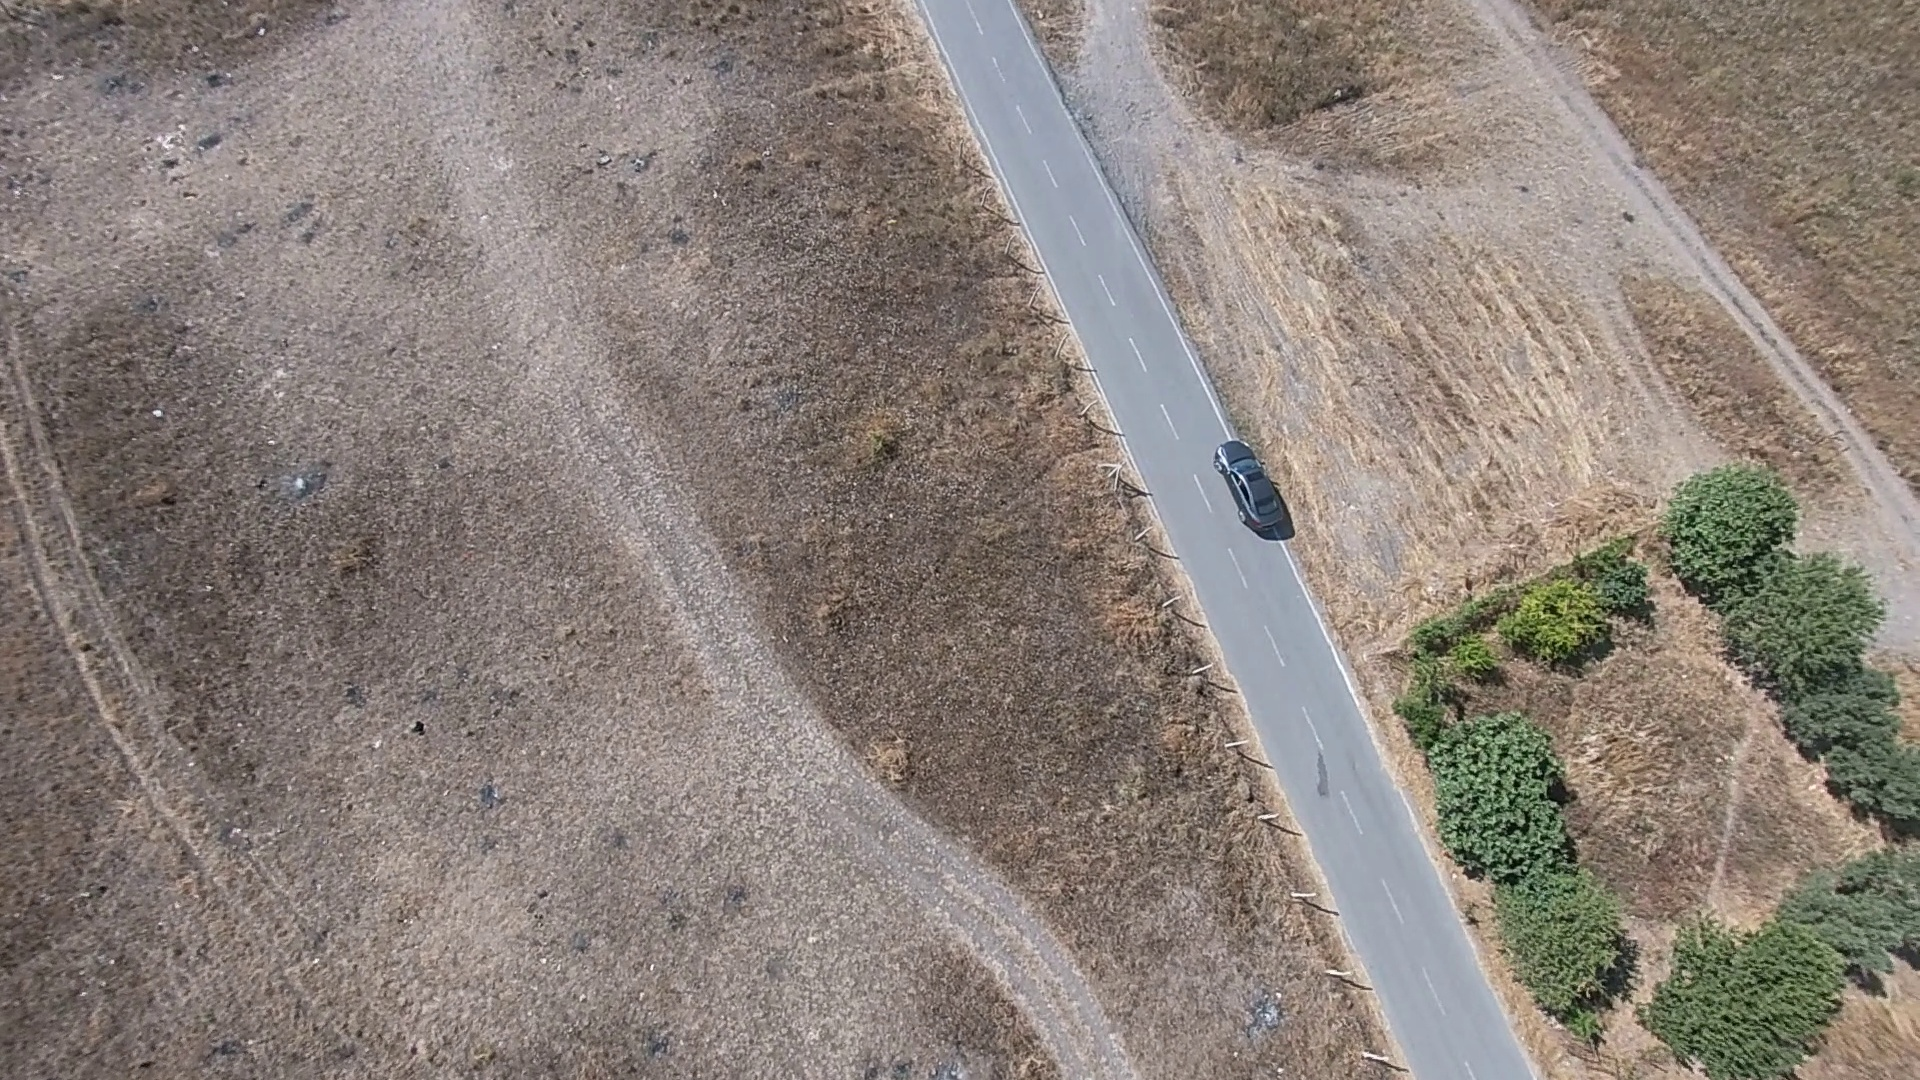araba: (1208, 439, 1296, 538)
